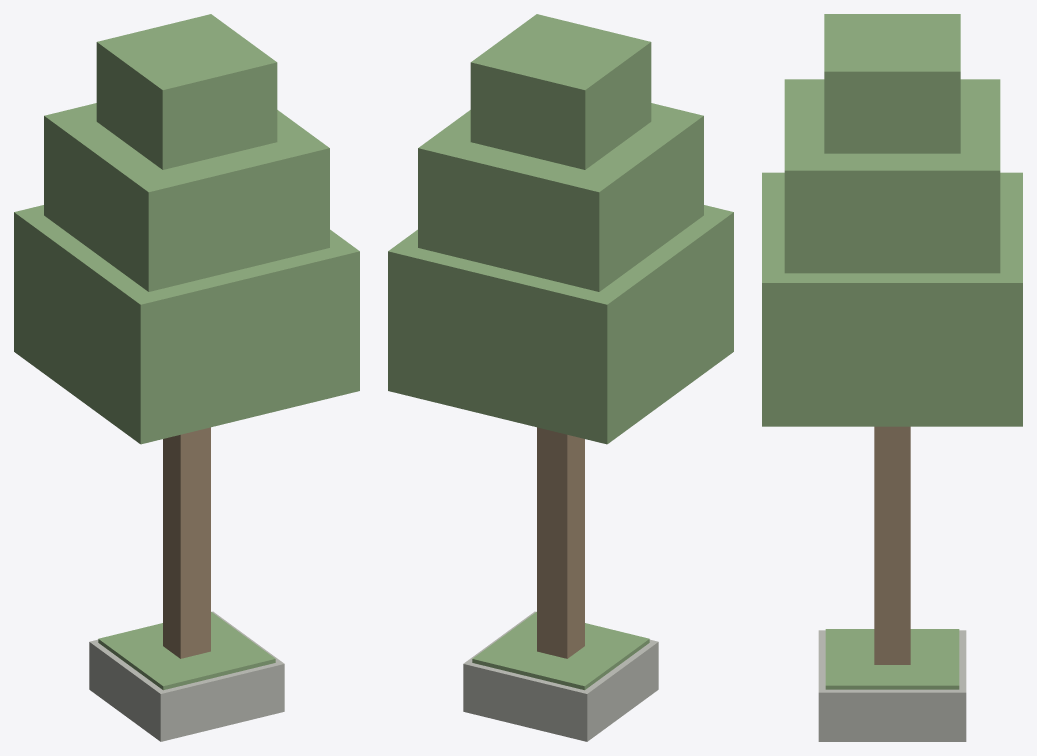
Rendered from city-tree.glb.
3 views of the same model, side by side, from view 1: azimuth 30°, elevation 25°; view 2: azimuth 150°, elevation 25°; view 3: azimuth 270°, elevation 25° (orthographic). The views are drawn at different scales.
Size of the model in its own units: 1.15 by 3.25 by 1.15.
